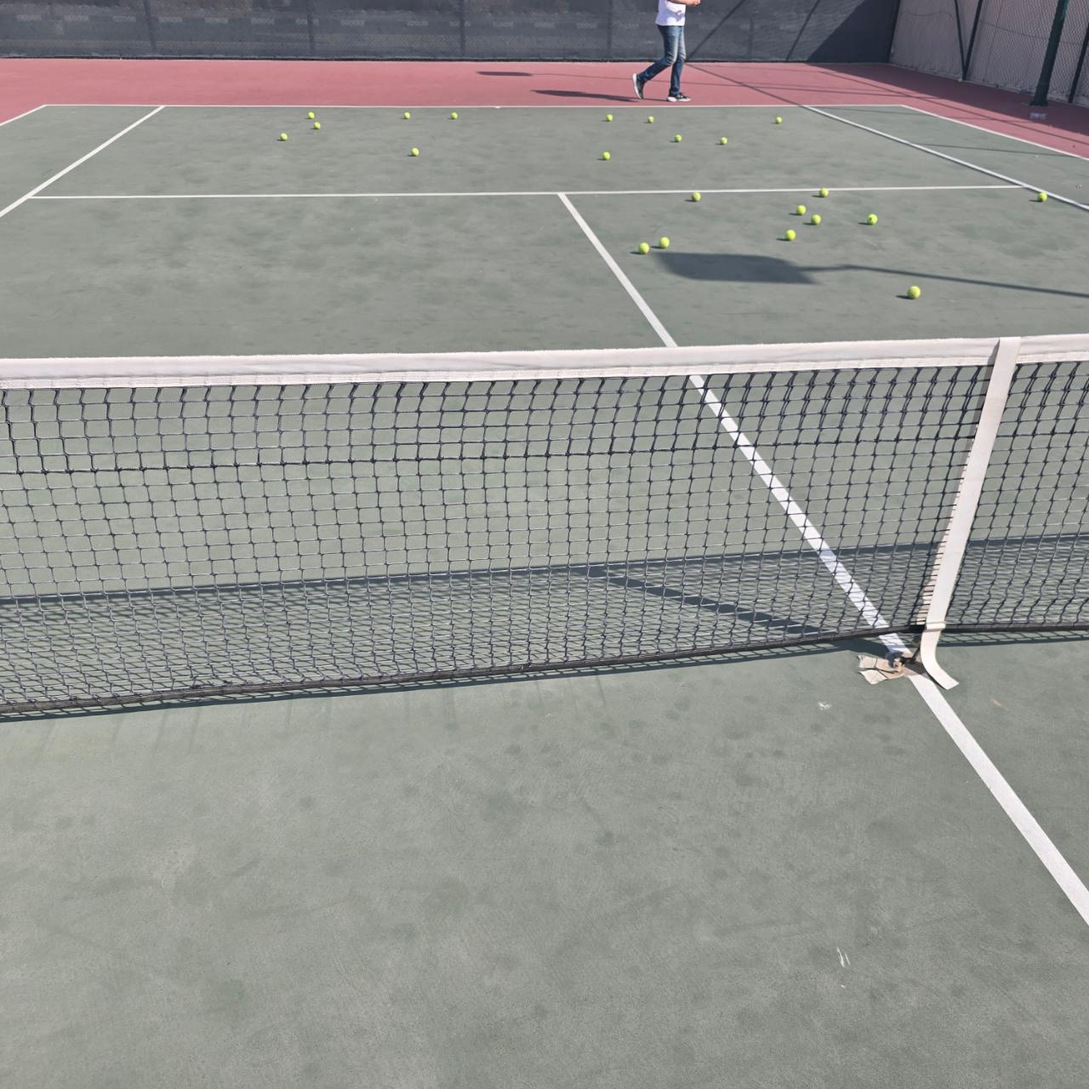tennis-ball: (905, 284, 921, 299), (657, 234, 670, 248), (637, 240, 649, 254), (810, 212, 822, 225), (784, 226, 795, 240), (866, 211, 877, 225), (408, 145, 419, 157), (690, 190, 701, 202), (795, 204, 806, 215), (1037, 192, 1048, 203), (818, 187, 829, 197), (674, 134, 683, 142), (602, 152, 611, 160), (720, 137, 728, 145), (280, 133, 288, 141), (647, 115, 654, 124), (451, 112, 458, 120), (404, 112, 411, 120), (313, 122, 321, 129), (606, 114, 613, 121), (308, 112, 315, 119), (776, 117, 782, 124), (958, 77, 962, 82)
